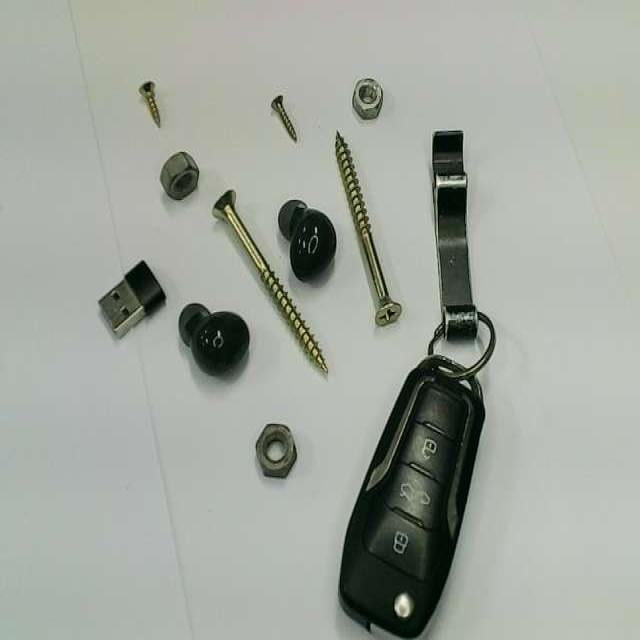Parafuso: (213, 190, 327, 373), (335, 132, 401, 326), (271, 95, 297, 142), (139, 82, 160, 127)
Porca: (256, 424, 296, 478), (161, 152, 198, 199), (352, 79, 382, 118)
